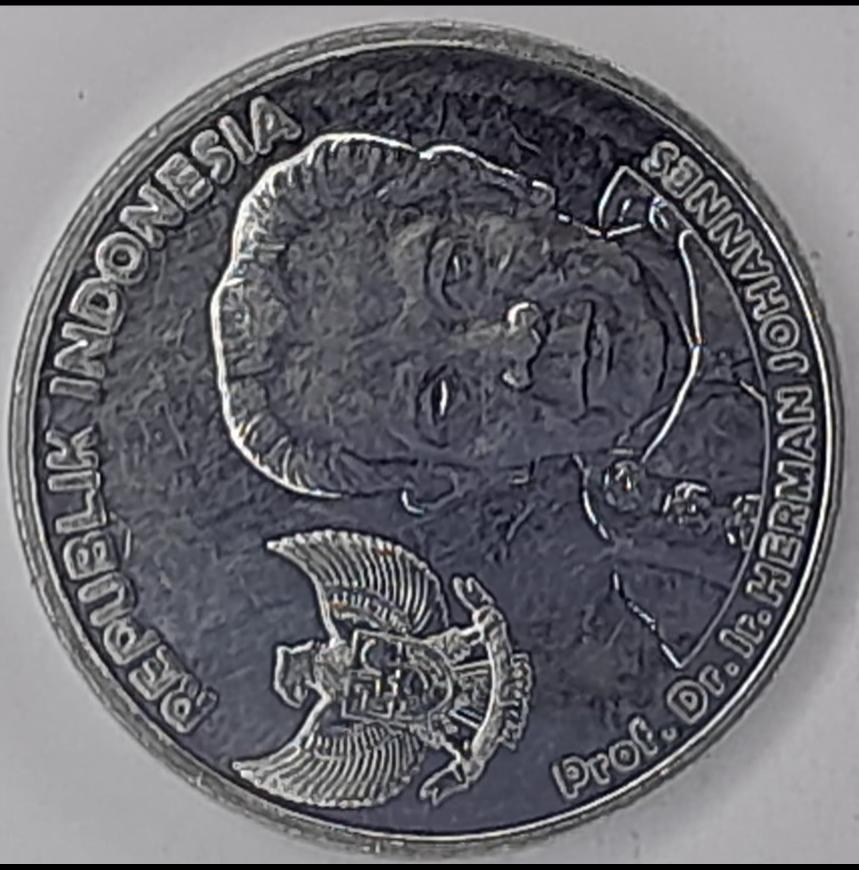coin_100_e2016: (3, 14, 850, 854)
